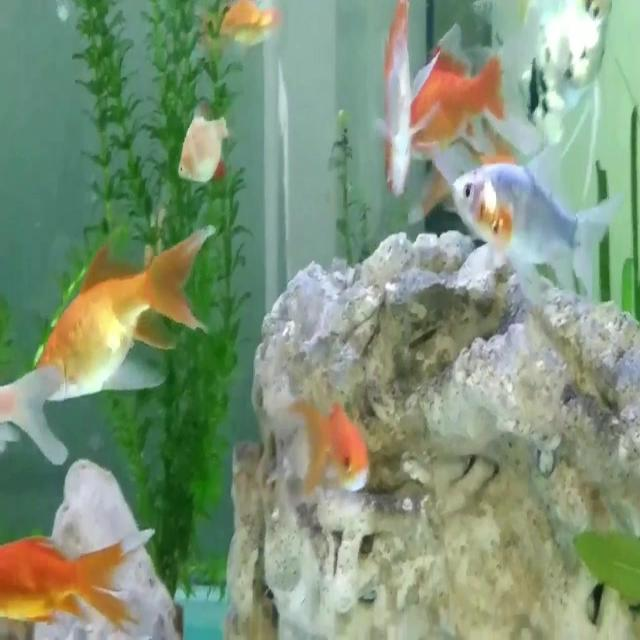GoldFish: (35, 220, 221, 410), (441, 144, 628, 304), (280, 382, 377, 516)
